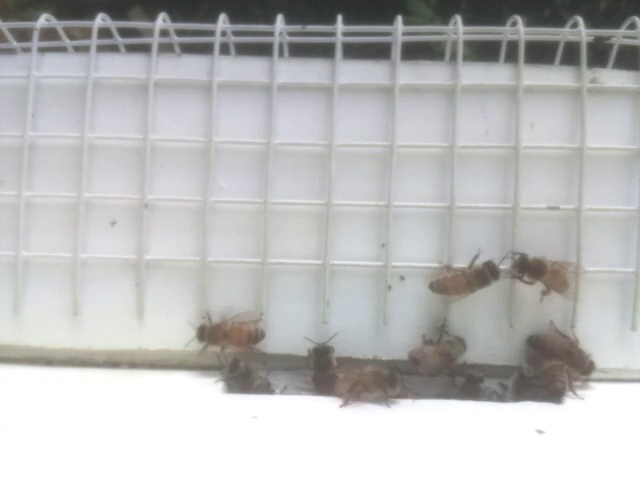bee: (498, 243, 590, 306), (522, 321, 610, 381), (421, 250, 512, 305), (185, 304, 277, 358), (207, 348, 284, 401), (295, 329, 352, 400), (402, 322, 474, 376), (338, 360, 411, 412), (533, 356, 583, 403), (456, 365, 485, 404)
